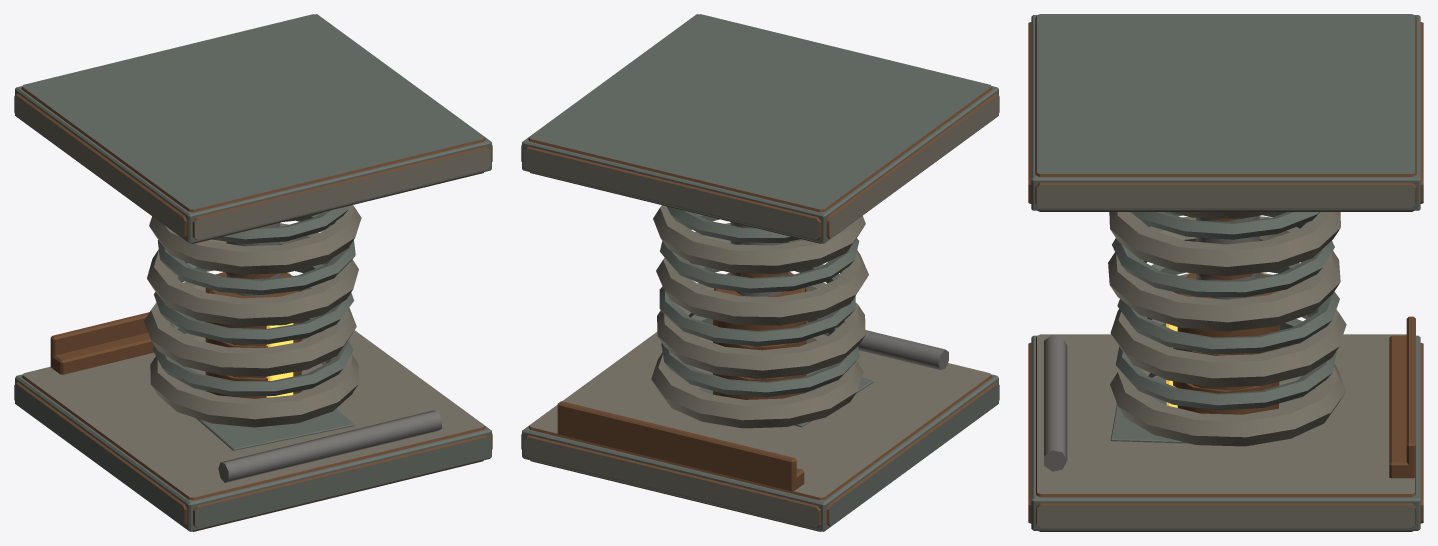
The model's file is R4X_Suspension.fbx.
3 views of the same model, side by side, from view 1: azimuth 30°, elevation 25°; view 2: azimuth 150°, elevation 25°; view 3: azimuth 270°, elevation 25° (orthographic). The views are drawn at different scales.
Visible parts, largest first — view 1: R4X_Suspension_Body, R4X_Suspension_Piston; view 2: R4X_Suspension_Body, R4X_Suspension_Piston; view 3: R4X_Suspension_Body, R4X_Suspension_Piston.
Boxes of the visible parts, box(x1,y1,x2,y2) form: R4X_Suspension_Body: box(14, 14, 492, 531); R4X_Suspension_Piston: box(226, 223, 280, 295); R4X_Suspension_Body: box(521, 14, 999, 531); R4X_Suspension_Piston: box(730, 222, 787, 296); R4X_Suspension_Body: box(1028, 14, 1423, 531); R4X_Suspension_Piston: box(1196, 215, 1259, 299).
Size of the model in its own units: 0.52 by 0.52 by 0.52.
